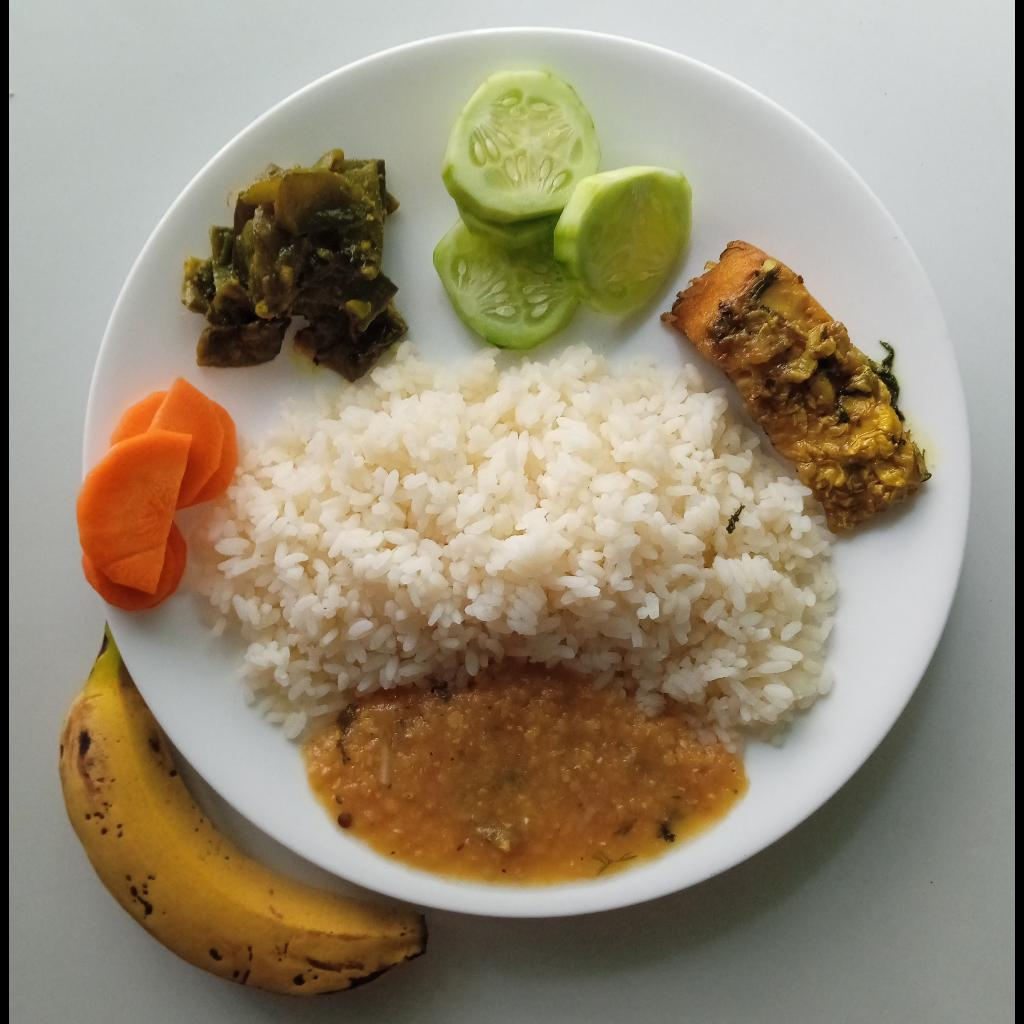banana: (57, 626, 427, 996)
carrot: (77, 376, 239, 611)
cucumber: (435, 68, 693, 346)
daal: (301, 658, 750, 885), (300, 657, 749, 884)
fish: (663, 239, 935, 532)
rice: (194, 338, 838, 752)
shim: (183, 148, 409, 381)
